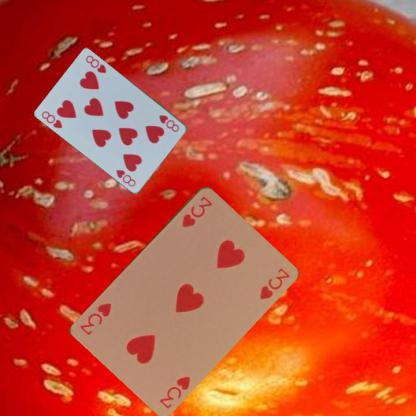3h: (156, 373, 192, 410), (179, 193, 214, 229)
8h: (39, 108, 64, 129), (157, 112, 180, 134)
